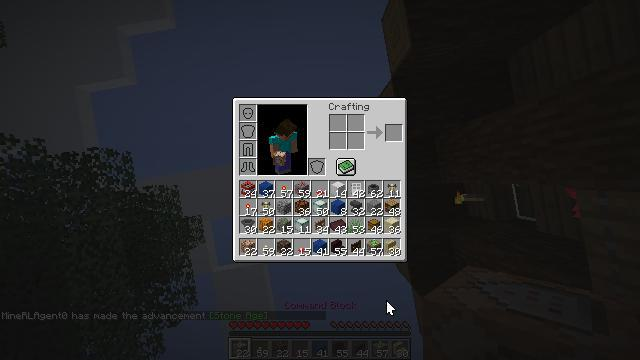cursor: (386, 300, 396, 316)
